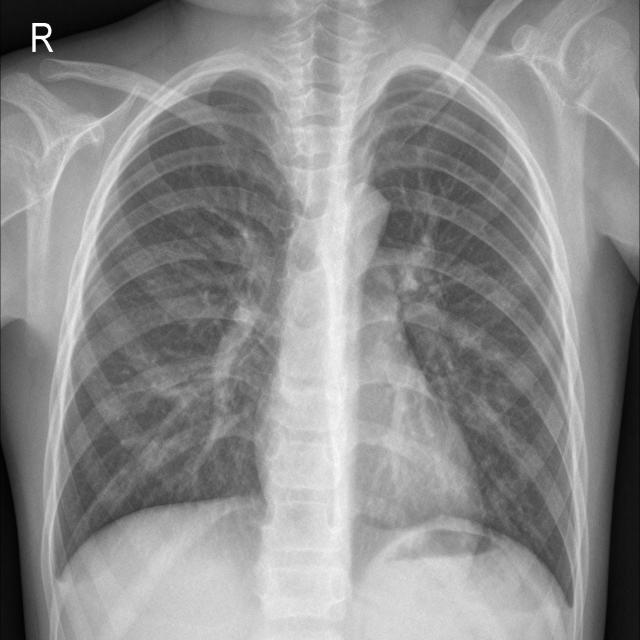no-pneumonia: (57, 74, 293, 569), (372, 71, 574, 600)
